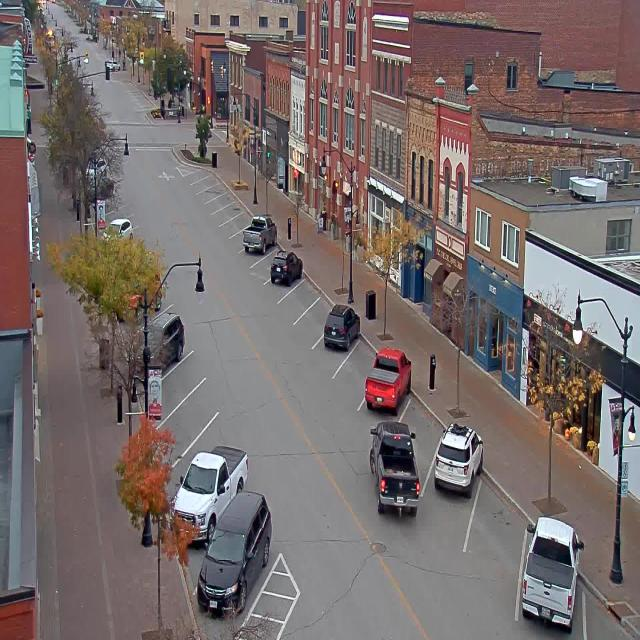available: (460, 476, 533, 571), (576, 572, 640, 639), (167, 378, 224, 436), (158, 342, 208, 396), (334, 349, 371, 409), (187, 408, 245, 444), (301, 295, 333, 344), (283, 269, 317, 315), (248, 245, 278, 288), (222, 213, 250, 233), (216, 205, 242, 222), (231, 227, 246, 254), (209, 193, 233, 208), (187, 166, 208, 181), (203, 185, 224, 199), (194, 178, 218, 190)
occupied: (196, 490, 272, 616), (171, 444, 249, 547), (521, 515, 584, 631), (369, 420, 420, 517), (434, 421, 483, 497), (364, 346, 412, 414), (141, 306, 185, 366), (323, 303, 360, 351), (242, 214, 277, 254), (270, 249, 303, 286)
